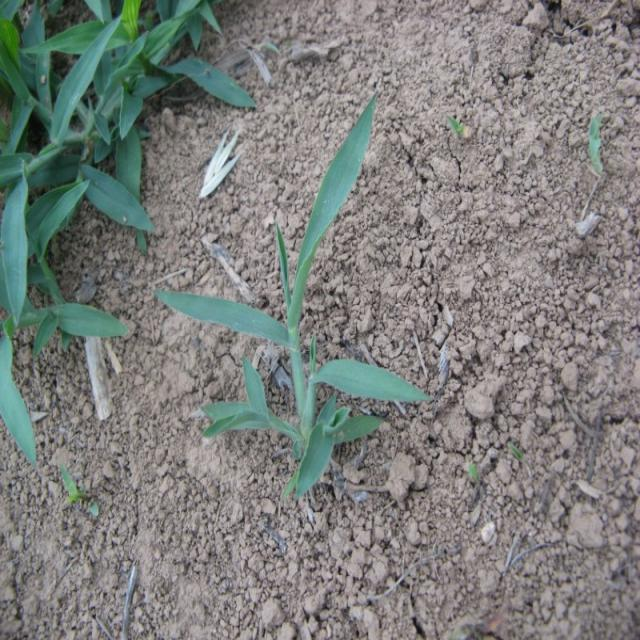bg: (154, 102, 437, 500)
